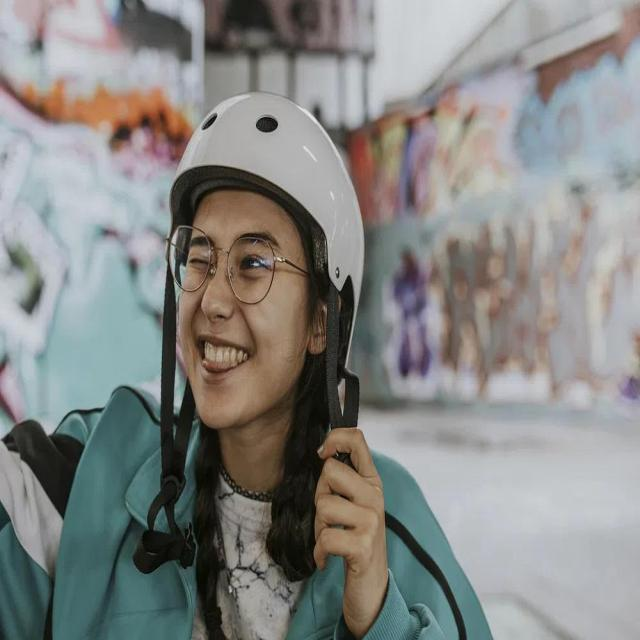Helmet: (170, 92, 364, 314)
